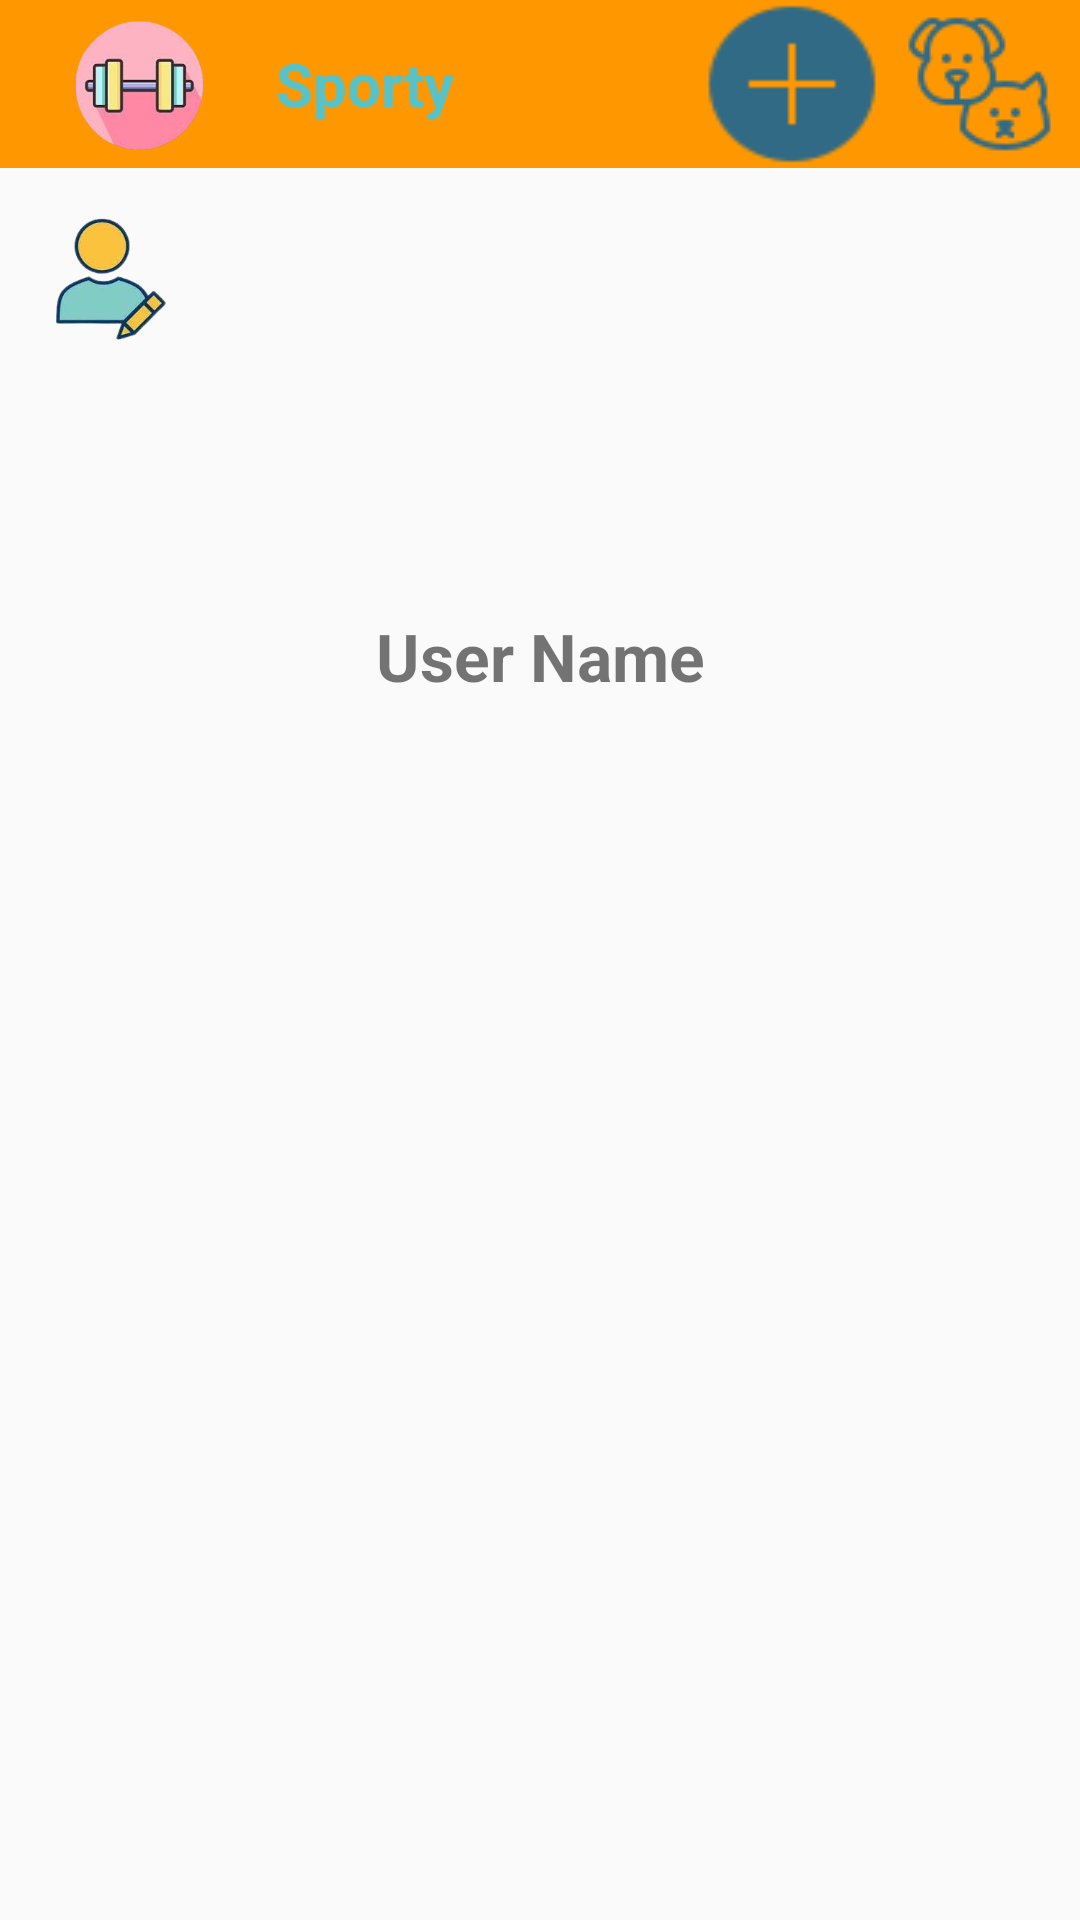

Screen size 1080 × 1920. Icon name, then its box in pixels as Rect(x1, y1, x2, y2):
add: Rect(708, 5, 876, 163)
edit profile: Rect(56, 219, 166, 340)
